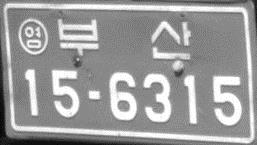-: (85, 86, 104, 104)
1: (180, 73, 202, 125), (20, 67, 42, 118)
3: (143, 71, 172, 124)
5: (211, 74, 243, 126), (49, 68, 81, 118)
6: (107, 71, 138, 122)
부산_D: (55, 16, 193, 62)
영: (16, 16, 50, 57)
